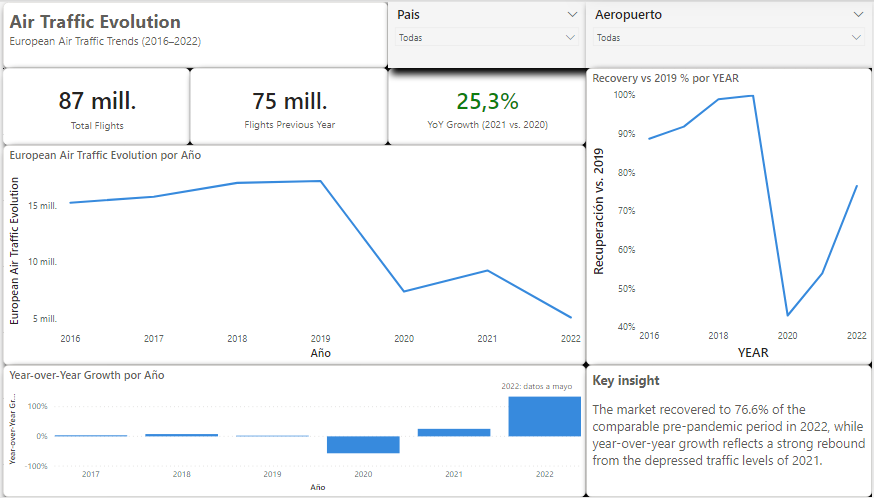

The page's visual inventory and layout, read from the dashboard file:
{"tool":"powerbi","page":{"name":"Air Traffic Evolution","canvas":[1280,720],"ordinal":3},"visuals":[{"type":"textbox","box":[16,0,560,96],"z":0},{"type":"card","fields":{"Values":["Medidas.Total Flights"]},"box":[16,96,272,112],"z":1000},{"type":"card","fields":{"Values":["Medidas.Flights Previous Year"]},"box":[288,96,288,112],"z":2000},{"type":"card","fields":{"Values":["Medidas.YoY Growth %"]},"box":[576,96,288,112],"z":3000},{"type":"lineChart","fields":{"Category":["Dim_Fecha.Año"],"Y":["Medidas.Total Flights"]},"box":[16,208,848,320],"z":4000},{"type":"slicer","fields":{"Values":["Dim_Pais.Pais"]},"box":[576,0,288,96],"z":5000},{"type":"slicer","fields":{"Values":["Dim_Aeropuerto.Aeropuerto"]},"box":[864,0,416,96],"z":6000},{"type":"clusteredColumnChart","fields":{"Category":["Dim_Fecha.Año"],"Y":["Medidas.YoY Growth %"]},"box":[16,528,848,192],"z":7000},{"type":"lineChart","fields":{"Y":["Medidas.Recovery vs 2019 %"],"Category":["Dim_Fecha.YEAR"]},"box":[864,96,416,432],"z":8000},{"type":"textbox","box":[736,544,144,32],"z":9000},{"type":"textbox","box":[864,528,416,192],"z":10000}]}

Visuals, with their boxes in screenshot pixels (x1, y1, x2, y2), scaled from the page's 1280x720 canvas onto the 874x498 screenshot:
textbox: 11, 0, 393, 66
card - Medidas.Total Flights: 11, 66, 197, 144
card - Medidas.Flights Previous Year: 197, 66, 393, 144
card - Medidas.YoY Growth %: 393, 66, 590, 144
lineChart - Dim_Fecha.Año x Medidas.Total Flights: 11, 144, 590, 365
slicer - Dim_Pais.Pais: 393, 0, 590, 66
slicer - Dim_Aeropuerto.Aeropuerto: 590, 0, 873, 66
clusteredColumnChart - Dim_Fecha.Año x Medidas.YoY Growth %: 11, 365, 590, 497
lineChart - Medidas.Recovery vs 2019 % x Dim_Fecha.YEAR: 590, 66, 873, 365
textbox: 503, 376, 601, 398
textbox: 590, 365, 873, 497
